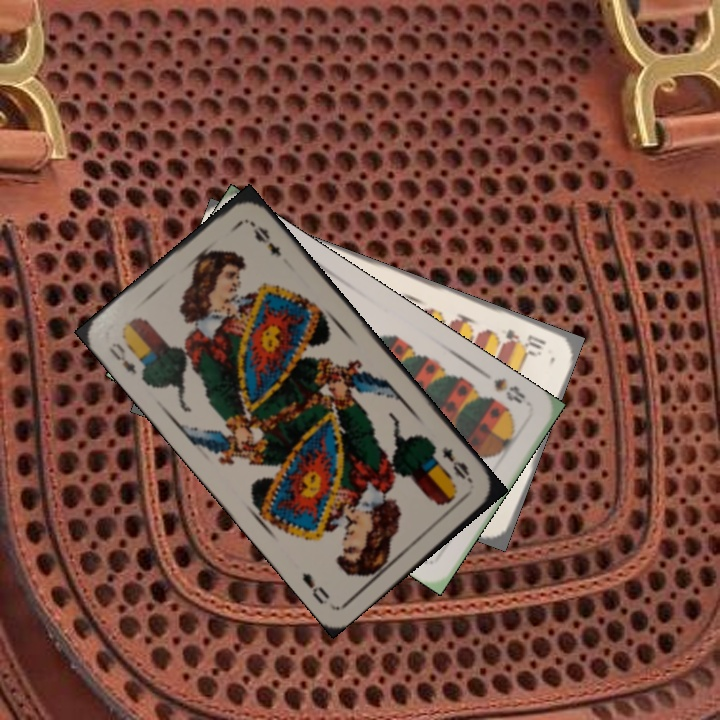E10: (501, 325, 549, 357)
EO: (438, 442, 476, 486), (105, 338, 140, 377)
S8: (489, 373, 528, 407)
